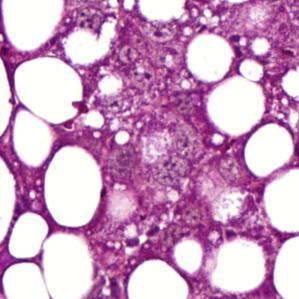steatosis: (43, 146, 106, 229), (8, 59, 88, 122), (179, 34, 232, 80)
